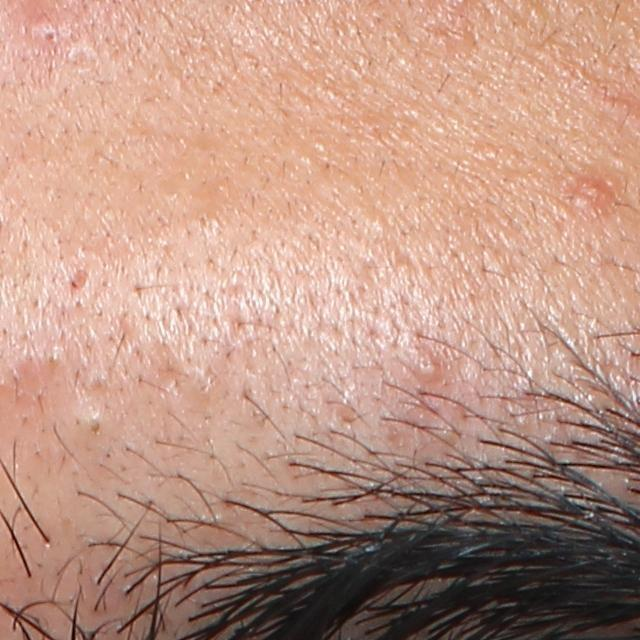comedo: (75, 396, 126, 439), (42, 25, 61, 44)
papule: (571, 180, 606, 210)
